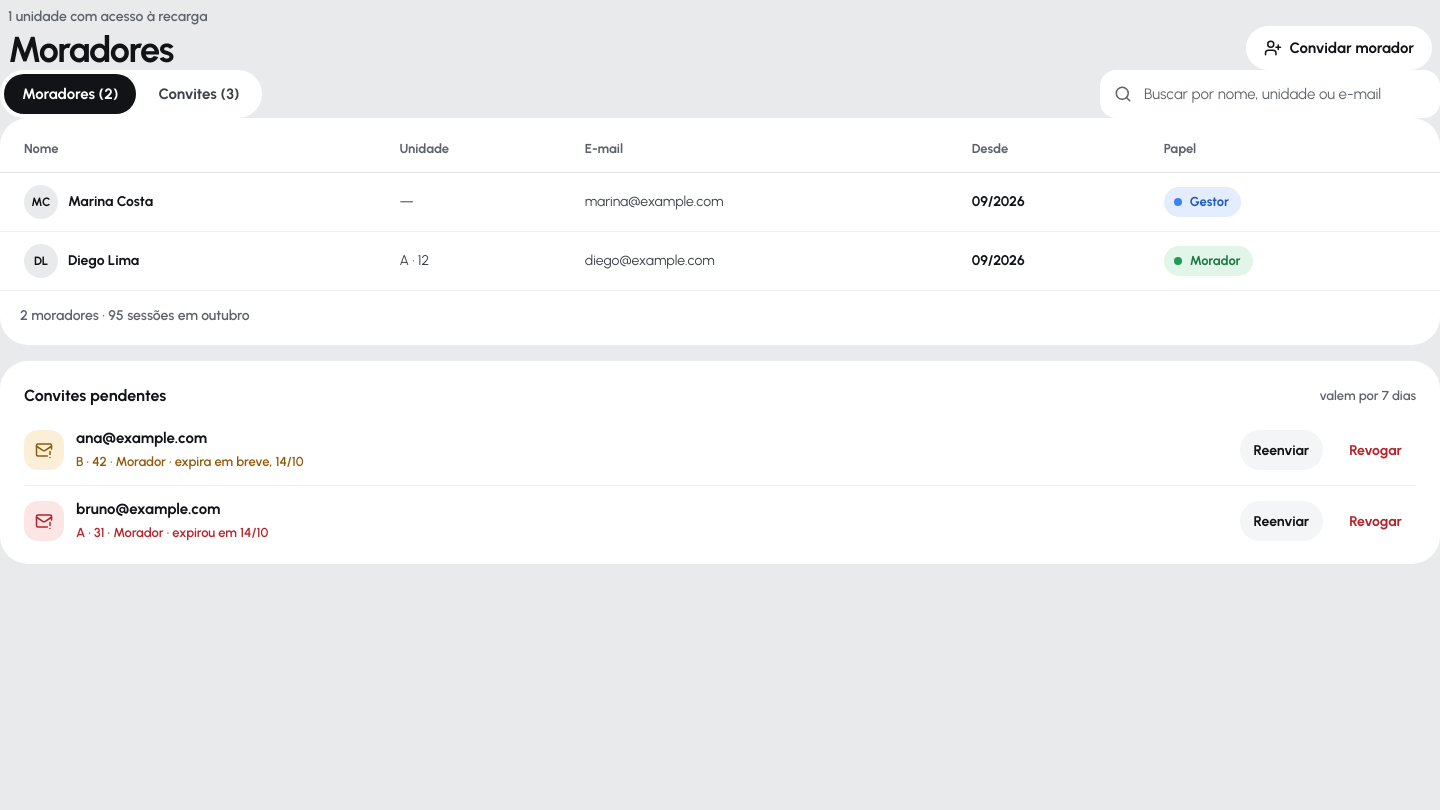
Scenario: ResidentsRoute › resends an invite after confirmation
Click the button with aria-label "Reenviar convite para bruno@example.com".
click(1281, 521)  # box [1240,501,1323,541]
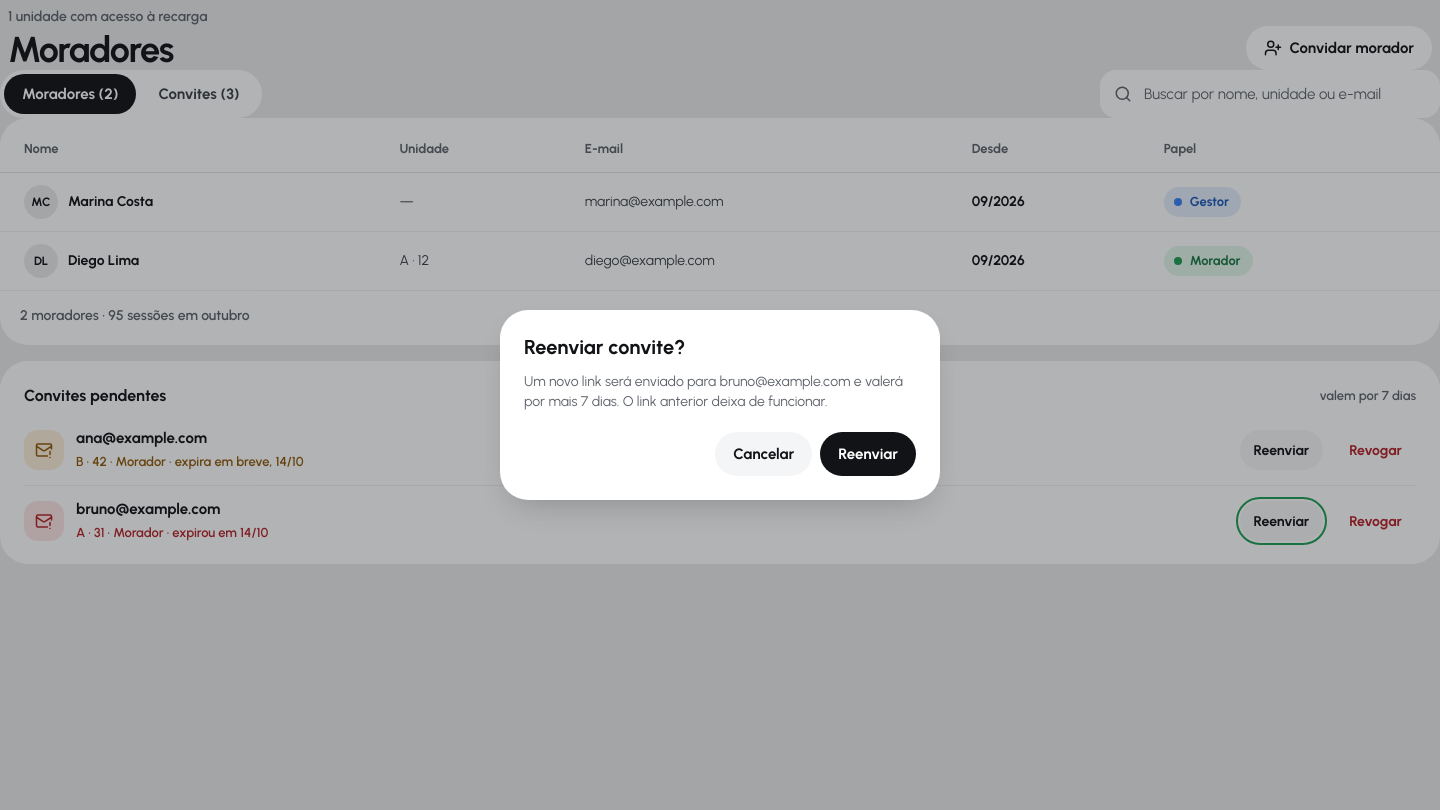
Click the button "Reenviar".
click(868, 454)  # box [820,432,916,476]
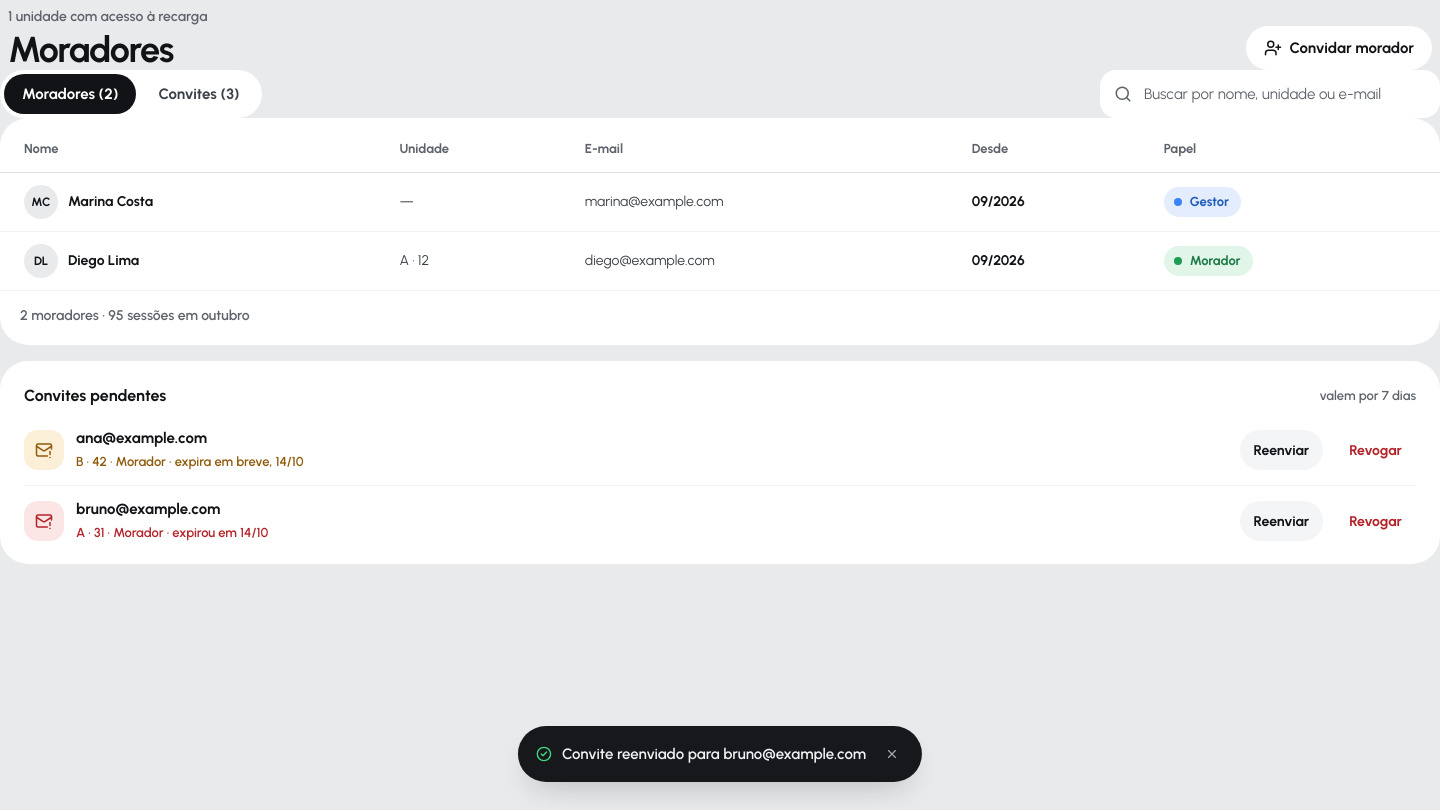
Expected: the text "Convite reenviado para bruno@example.com" is shown, [562,743,866,765]
Expected: the dialog is gone
